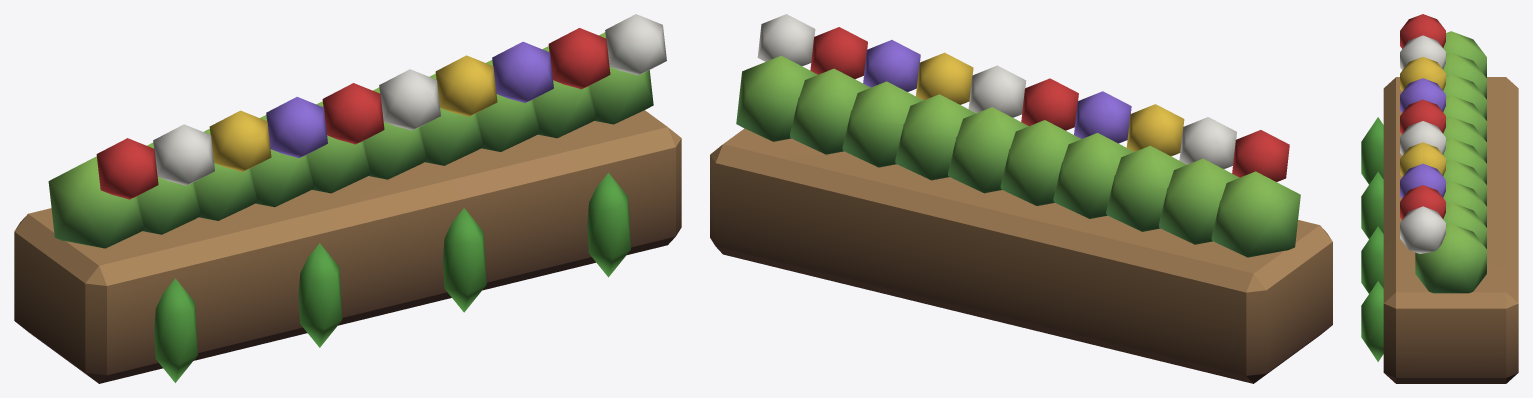
File: flower_box.glb
The picture shows the model from 3 angles, left to right: view 1: azimuth 30°, elevation 25°; view 2: azimuth 150°, elevation 25°; view 3: azimuth 270°, elevation 25°; orthographic projection. The views are drawn at different scales.
Visible parts, largest first — view 1: FlowerBox; view 2: FlowerBox; view 3: FlowerBox.
Part boxes in pixels (left/top/right/bottom): FlowerBox: left=14, top=14, right=681, bottom=383; FlowerBox: left=710, top=14, right=1332, bottom=383; FlowerBox: left=1361, top=14, right=1518, bottom=383.
Bounding box in the file's own units: 0.9521 × 0.348 × 0.2798.
